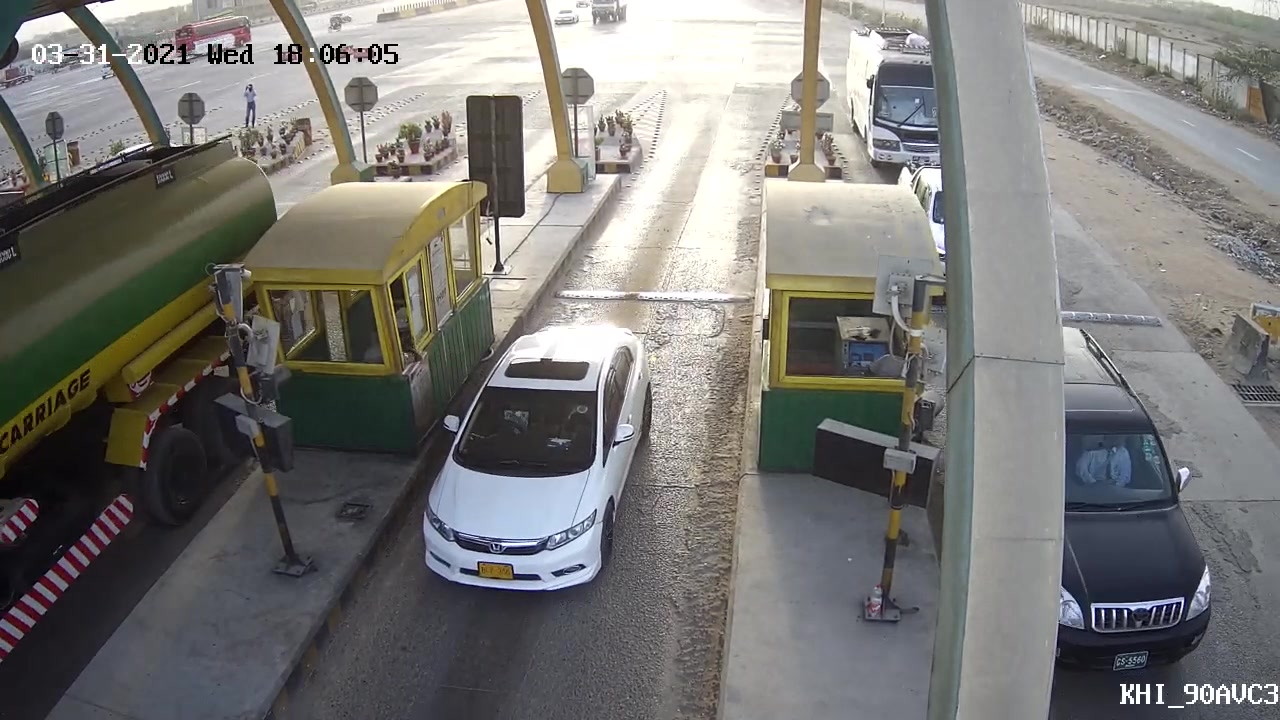F1: (409, 316, 658, 597)
